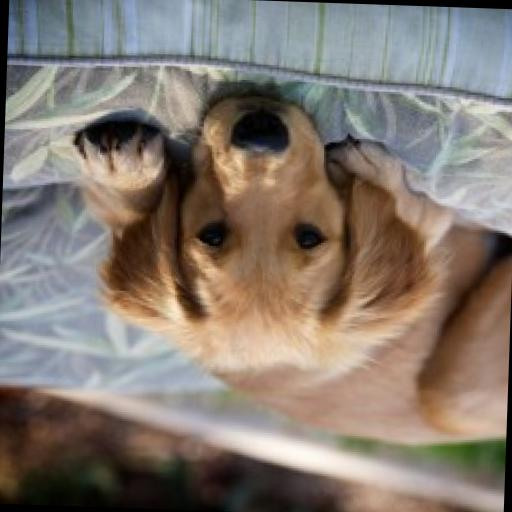dog: (49, 66, 512, 456)
